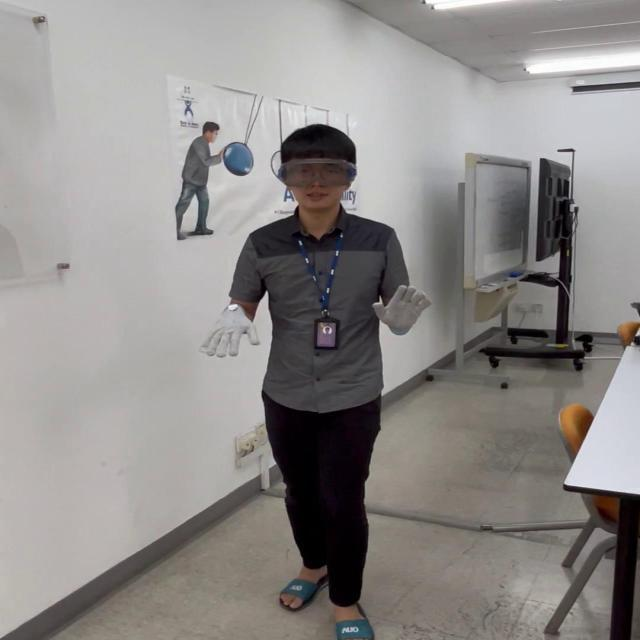bare_hand: (616, 304, 639, 344)
gloved_hand: (203, 302, 274, 368), (363, 275, 431, 334)
